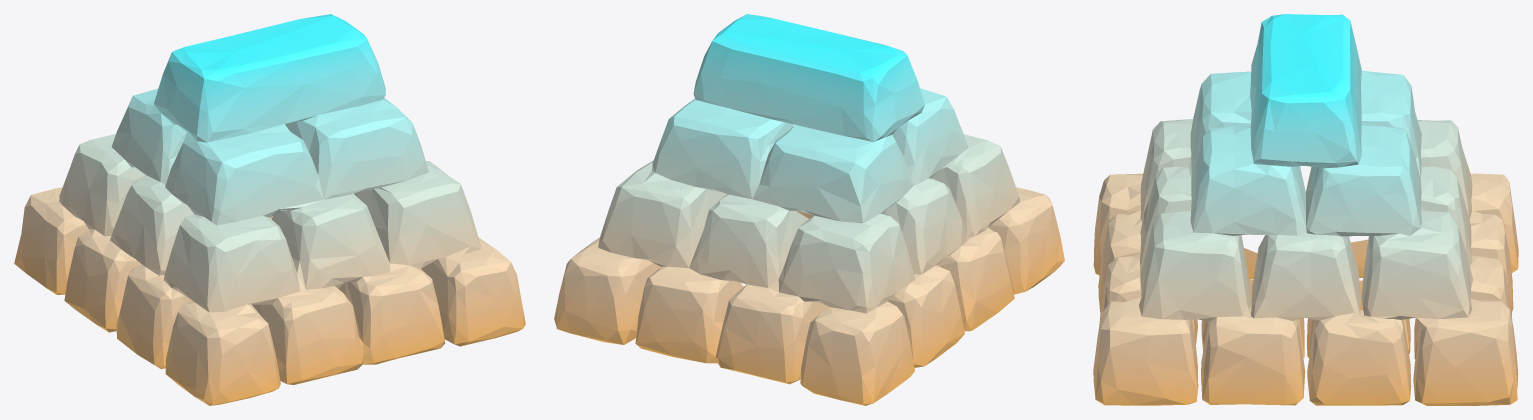
File: 29_cyb_laser_gradient_fish_scales_2930_2026_10_03_ec0d78.glb
The picture shows the model from 3 angles, left to right: view 1: azimuth 30°, elevation 25°; view 2: azimuth 150°, elevation 25°; view 3: azimuth 270°, elevation 25°; orthographic projection. The views are drawn at different scales.
Parts seen in each view (by area): view 1: geometry_0; view 2: geometry_0; view 3: geometry_0.
Part boxes in pixels (box(x1,y1,x2,y2)): geometry_0: box(14, 14, 525, 405); geometry_0: box(554, 14, 1064, 405); geometry_0: box(1093, 14, 1518, 405).
Size of the model in its own units: 0.9325 by 0.713 by 1.
